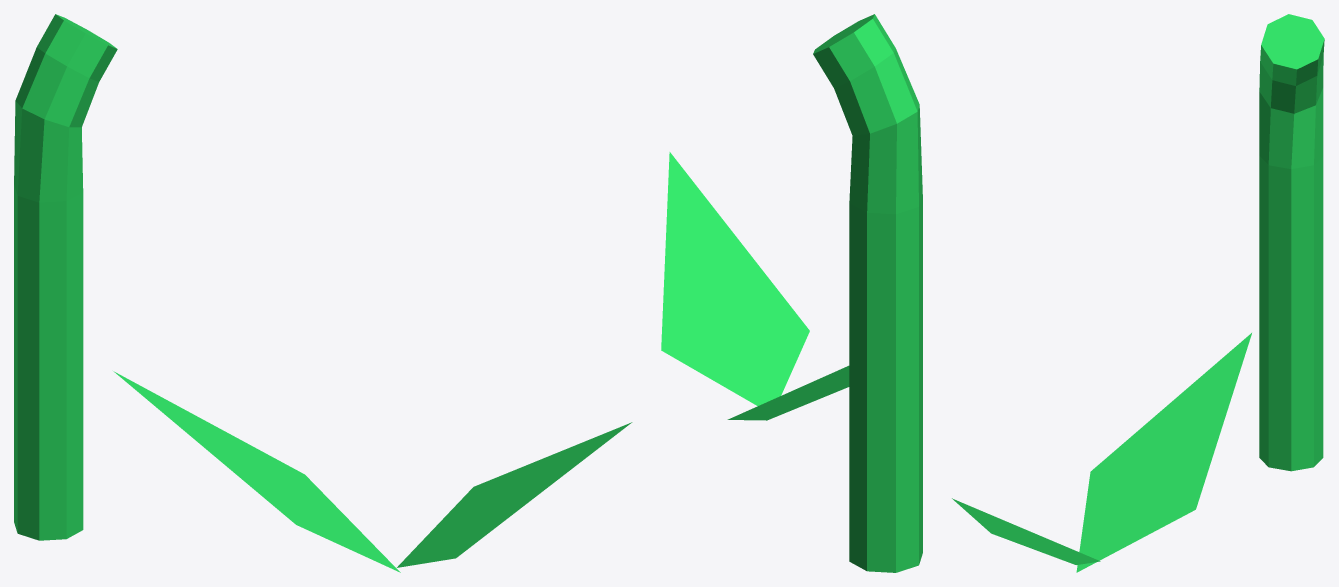
File: pumpkin_stage_1.glb
3 renders of one model, left to right at view 1: azimuth 30°, elevation 25°; view 2: azimuth 150°, elevation 25°; view 3: azimuth 270°, elevation 25°, orthographic. The views are drawn at different scales.
Visible parts, largest first — view 1: Cylinder.003, Plane; view 2: Cylinder.003, Plane; view 3: Cylinder.003, Plane.
Boxes of the visible parts, x1,y1,x2,y2 form: Cylinder.003: [14, 14, 632, 567]; Plane: [113, 371, 400, 572]; Cylinder.003: [661, 14, 922, 572]; Plane: [727, 365, 849, 420]; Cylinder.003: [952, 14, 1324, 564]; Plane: [1076, 333, 1251, 572].
Size of the model in its own units: 0.3425 by 0.3994 by 0.2914.
